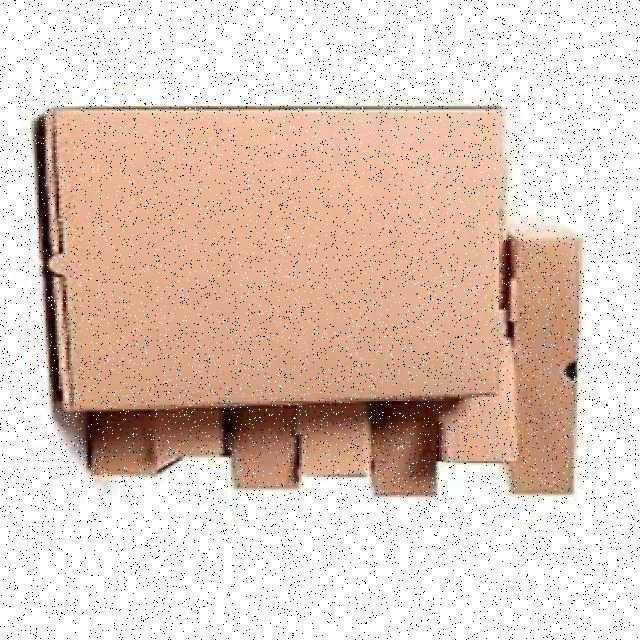normal: (34, 97, 514, 423)
